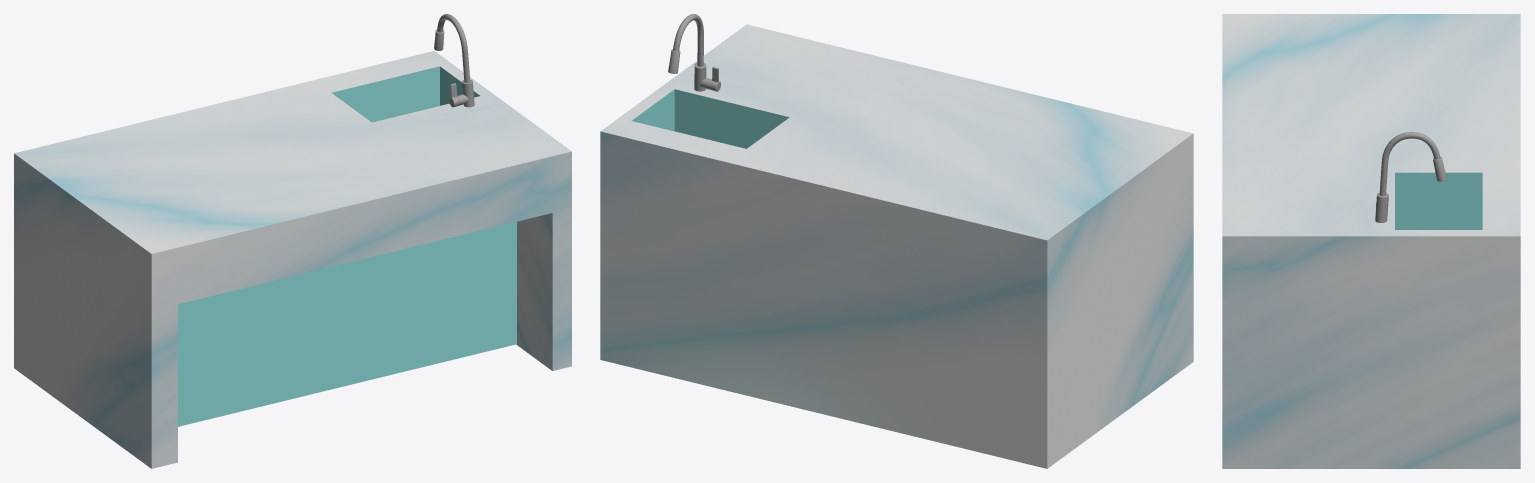
Rendered from decTabletexture-short (1).glb.
The picture shows the model from 3 angles, left to right: view 1: azimuth 30°, elevation 25°; view 2: azimuth 150°, elevation 25°; view 3: azimuth 270°, elevation 25°; orthographic projection. The views are drawn at different scales.
Visible parts, largest first — view 1: Cube.003, Cube.002, Cube.005; view 2: Cube.003, Cube.002, Cube.005; view 3: Cube.003, Cube.002, Cube.005.
Boxes of the visible parts, <box> form: Cube.003: <box>14,51,571,468</box>; Cube.002: <box>178,66,516,426</box>; Cube.005: <box>434,14,474,107</box>; Cube.003: <box>600,24,1193,468</box>; Cube.002: <box>632,89,789,148</box>; Cube.005: <box>668,14,720,91</box>; Cube.003: <box>1222,14,1520,468</box>; Cube.002: <box>1395,172,1482,229</box>; Cube.005: <box>1375,132,1446,222</box>.
Size of the model in its own units: 24.95 by 16.71 by 14.15.
Materials: 3 (1 with a texture image).
